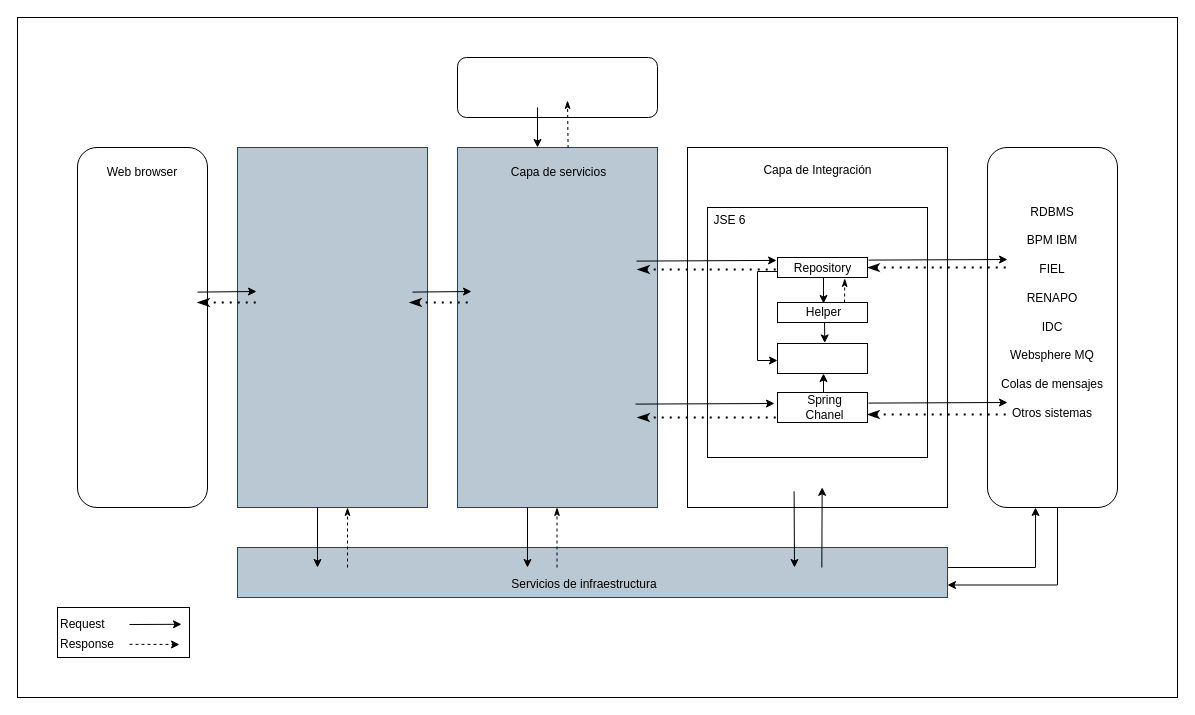
Image size: 1195x715. Some labels were removed from this diagram. Each missing label, with the centre of its shape:
"Business domain" goes at pixel 822 358.
"Capa de presentación" goes at pixel 332 327.
"Otros sistemas" goes at pixel 557 87.
